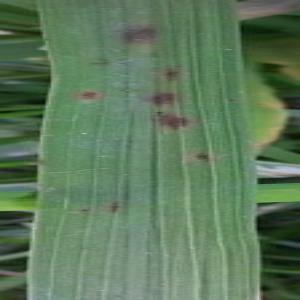0 BrownSpot: (105, 18, 162, 50), (145, 105, 193, 136), (137, 86, 180, 111), (157, 63, 189, 87), (188, 145, 215, 168), (76, 85, 103, 107), (104, 197, 125, 218), (77, 203, 92, 217)
